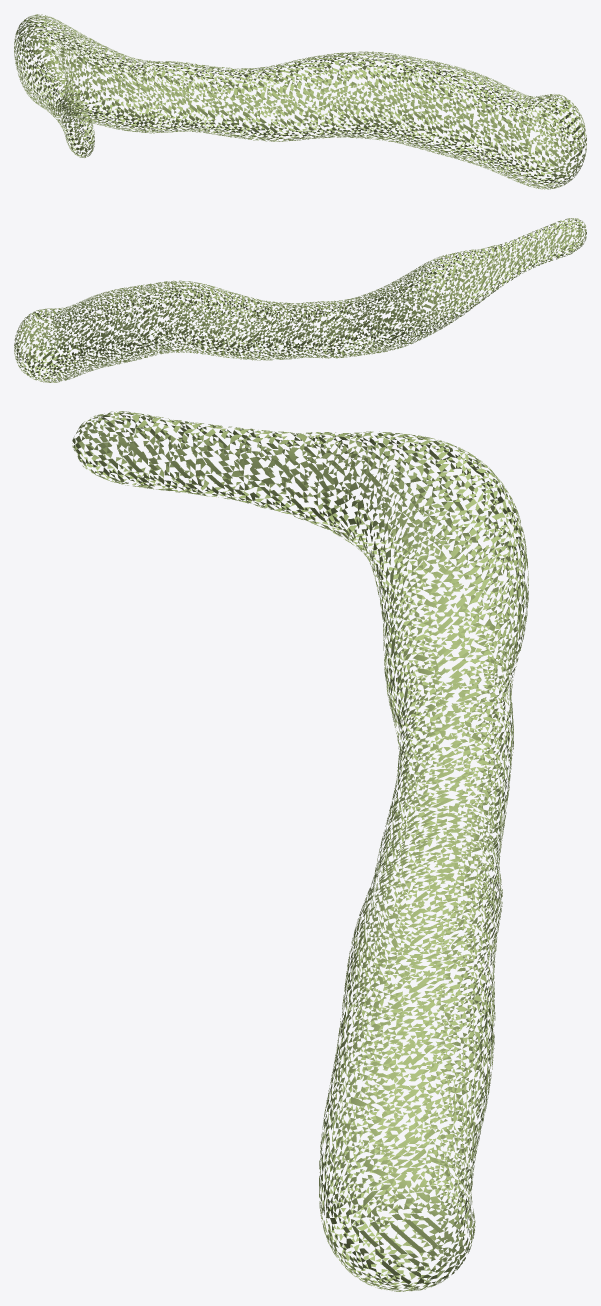
Rendered from morph_011.glb.
3 views of the same model, one above another, from view 1: azimuth 30°, elevation 25°; view 2: azimuth 150°, elevation 25°; view 3: azimuth 270°, elevation 25° (orthographic). The views are drawn at different scales.
Bounding box in the file's own units: 124 × 55.08 × 50.4.
